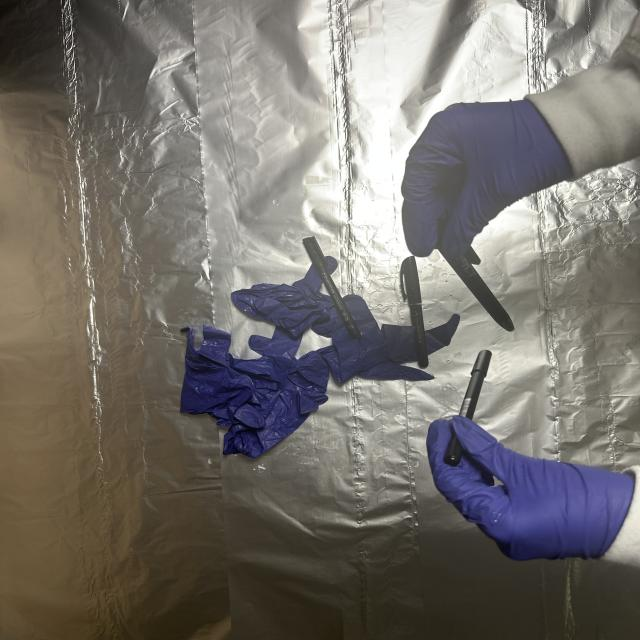gloves_contaminated: (427, 417, 635, 560), (402, 100, 570, 257)
